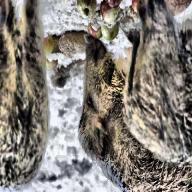boar: (69, 0, 192, 192), (125, 8, 192, 168), (0, 3, 55, 192)
